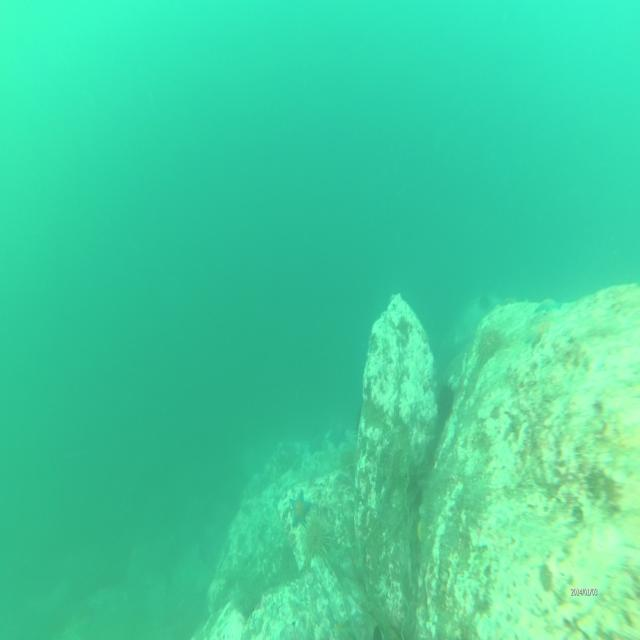echinus: (304, 507, 330, 563)
starfish: (290, 488, 309, 532), (327, 416, 349, 449)
